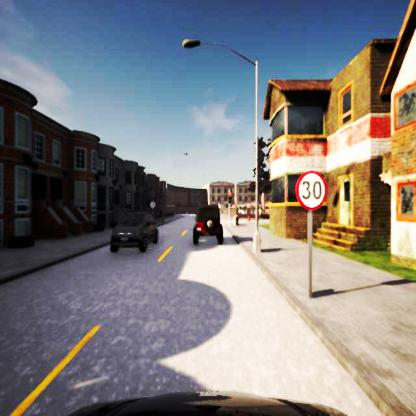vehicle: (111, 213, 160, 252), (192, 203, 222, 241)
